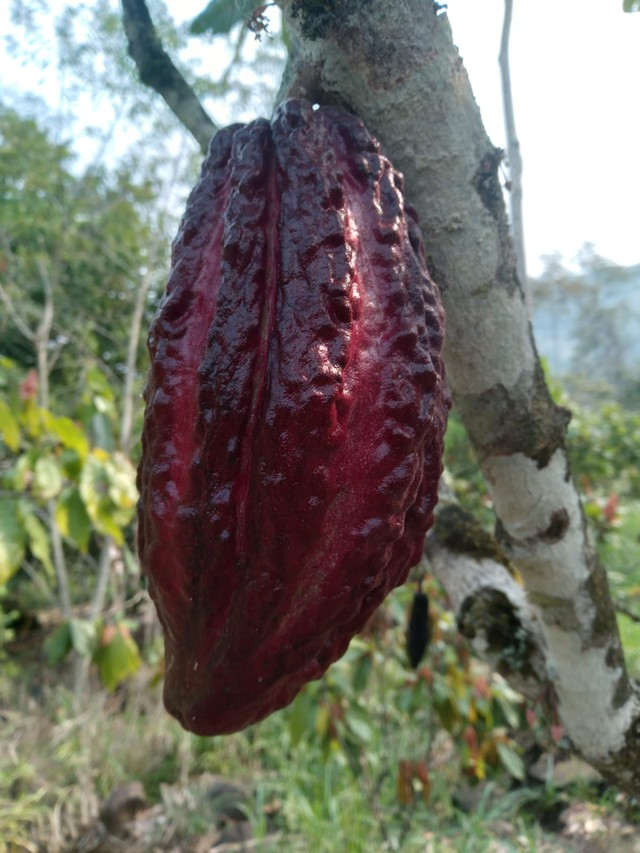Health: (132, 100, 454, 743)
